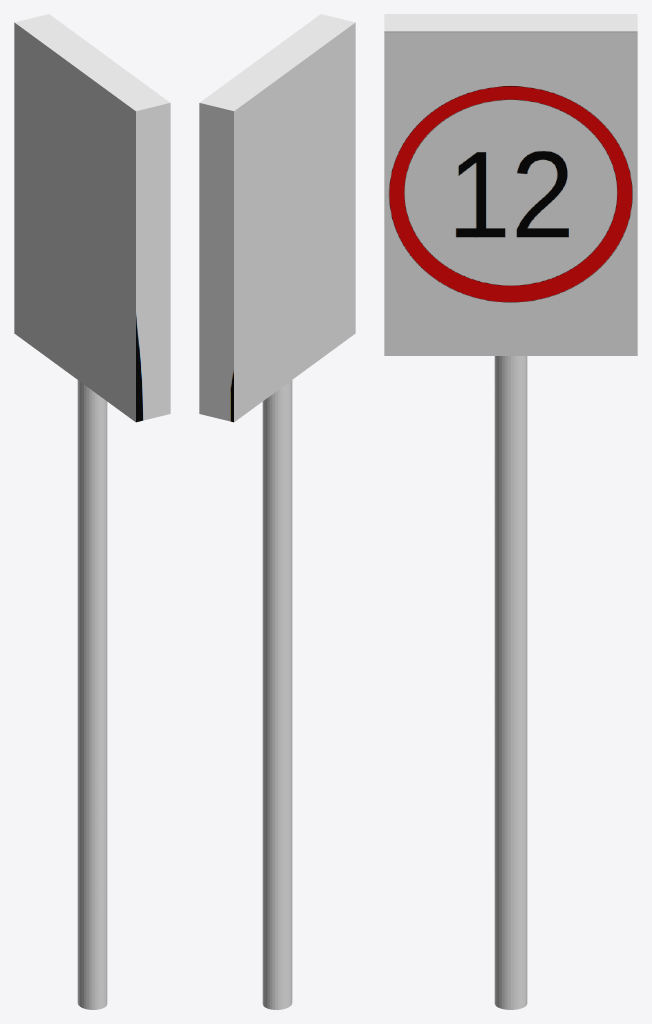
Rendered from sign12.dae.
3 renders of one model, left to right at view 1: azimuth 30°, elevation 25°; view 2: azimuth 150°, elevation 25°; view 3: azimuth 270°, elevation 25°, orthographic. The views are drawn at different scales.
Parts seen in each view (by area): view 1: Cube; view 2: Cube; view 3: Cube.
Part boxes in pixels (x1,y1,x2,y2): Cube: [14, 14, 170, 1009]; Cube: [199, 14, 355, 1009]; Cube: [384, 14, 637, 1009].
Size of the model in its own units: 0.0692 by 0.42 by 1.8.
